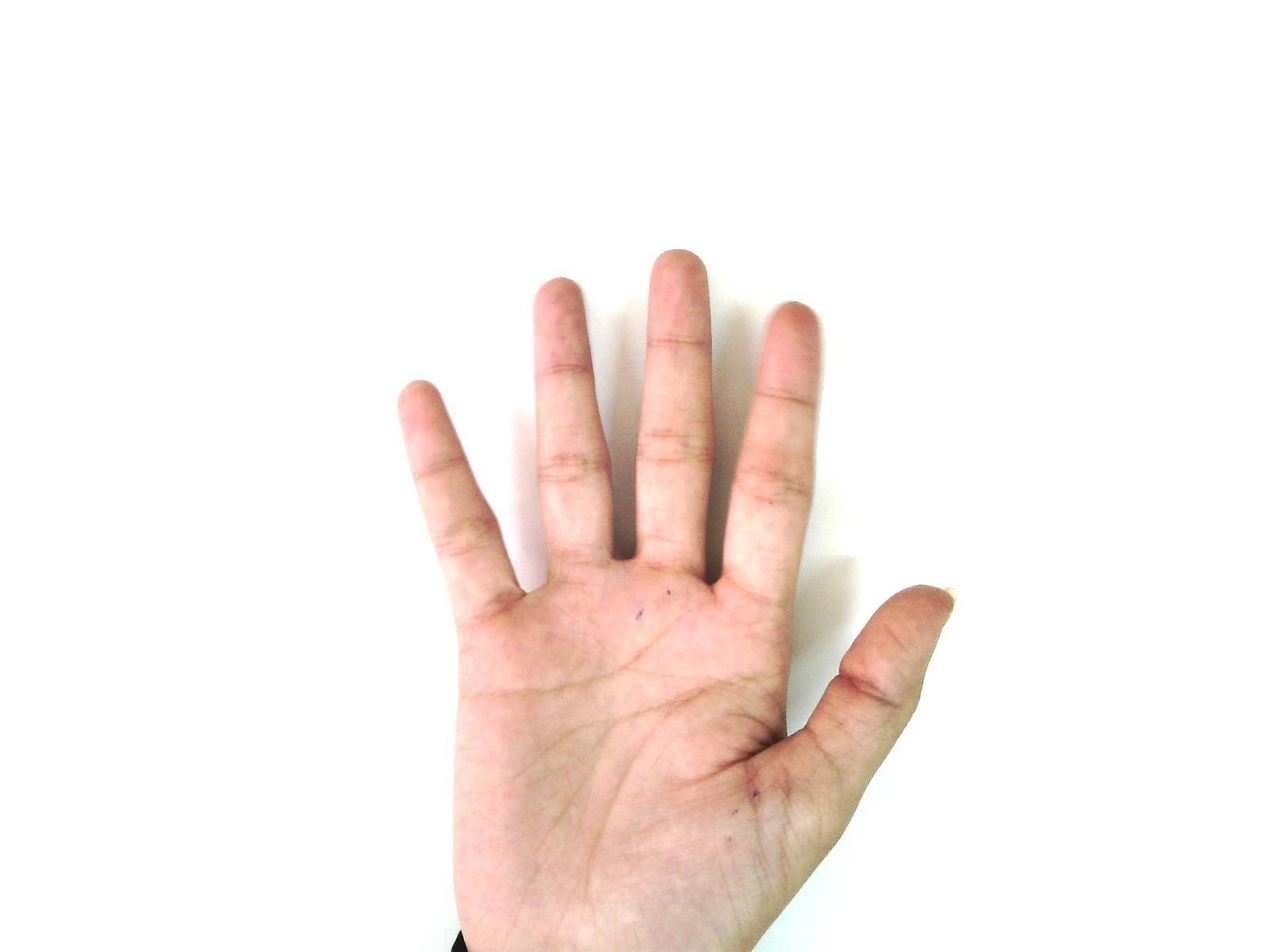open_palm: (394, 248, 957, 951)
